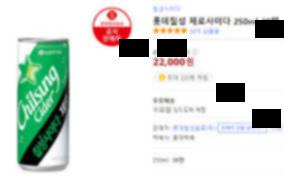chilsungcider_zero: (14, 36, 72, 168)
